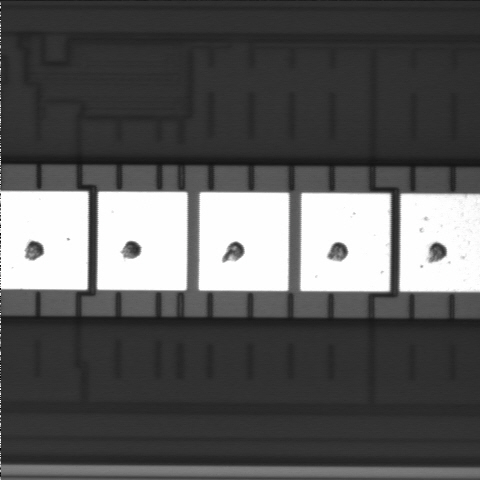pad: (199, 192, 289, 291), (97, 192, 187, 290), (300, 193, 390, 291)
